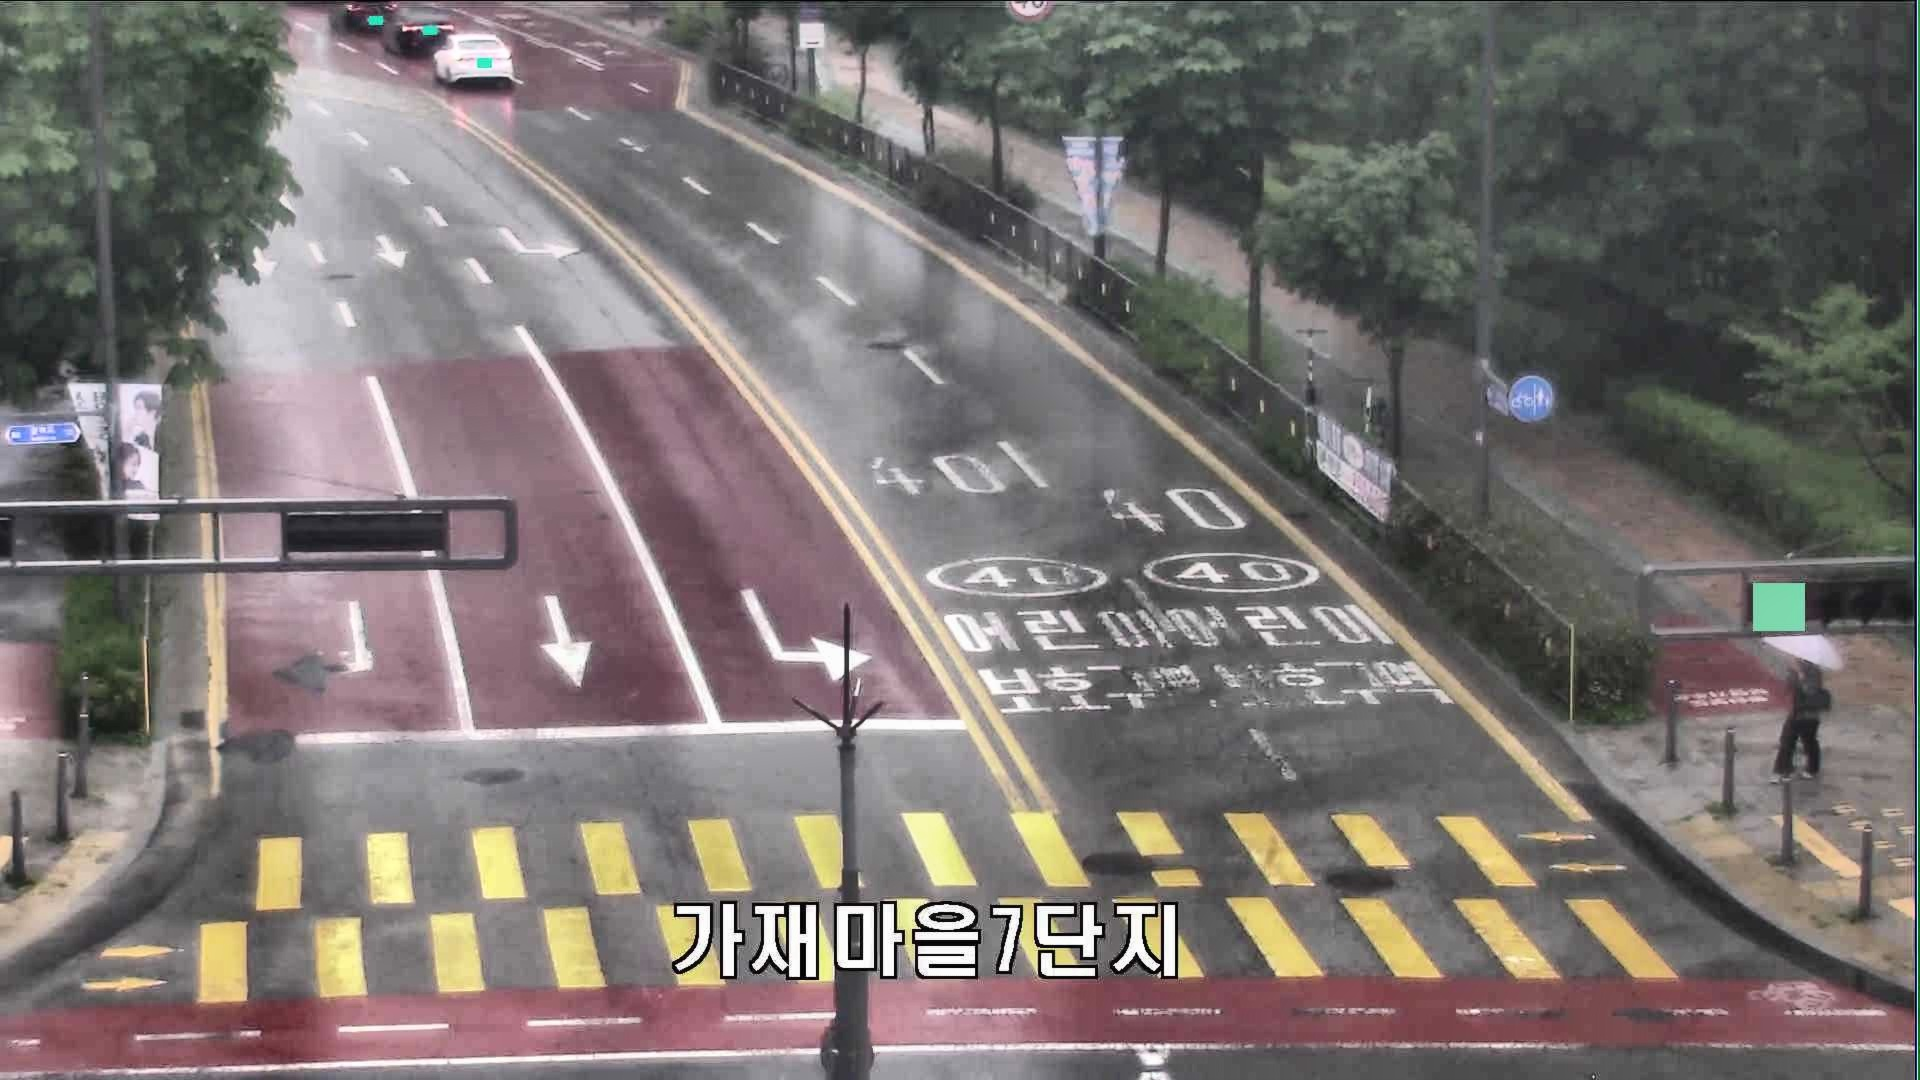um_sidewalk: (1758, 632, 1838, 781)
